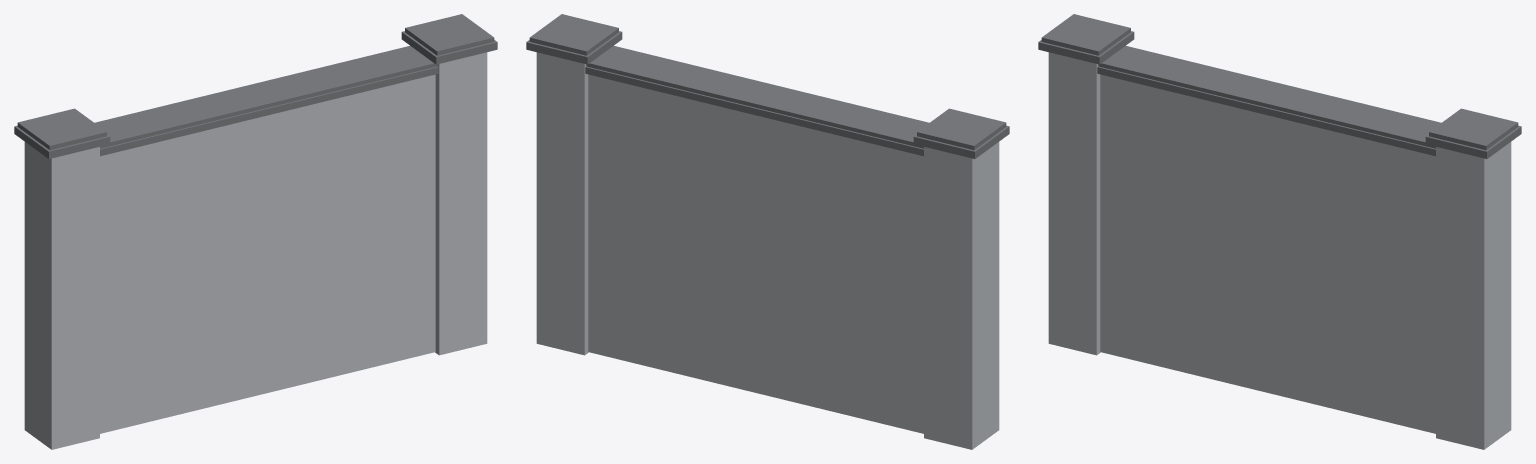
The model's file is SM_wall_platform_01.fbx.
3 views of the same model, side by side, from view 1: azimuth 30°, elevation 25°; view 2: azimuth 150°, elevation 25°; view 3: azimuth 330°, elevation 25° (orthographic).
Visible parts, largest first — view 1: Box235; view 2: Box235; view 3: Box235.
Boxes of the visible parts, left/top/right/bottom form: Box235: left=14, top=14, right=497, bottom=449; Box235: left=526, top=14, right=1009, bottom=449; Box235: left=1038, top=14, right=1521, bottom=449.
Bounding box in the file's own units: 149 × 19.9 × 97.17.
